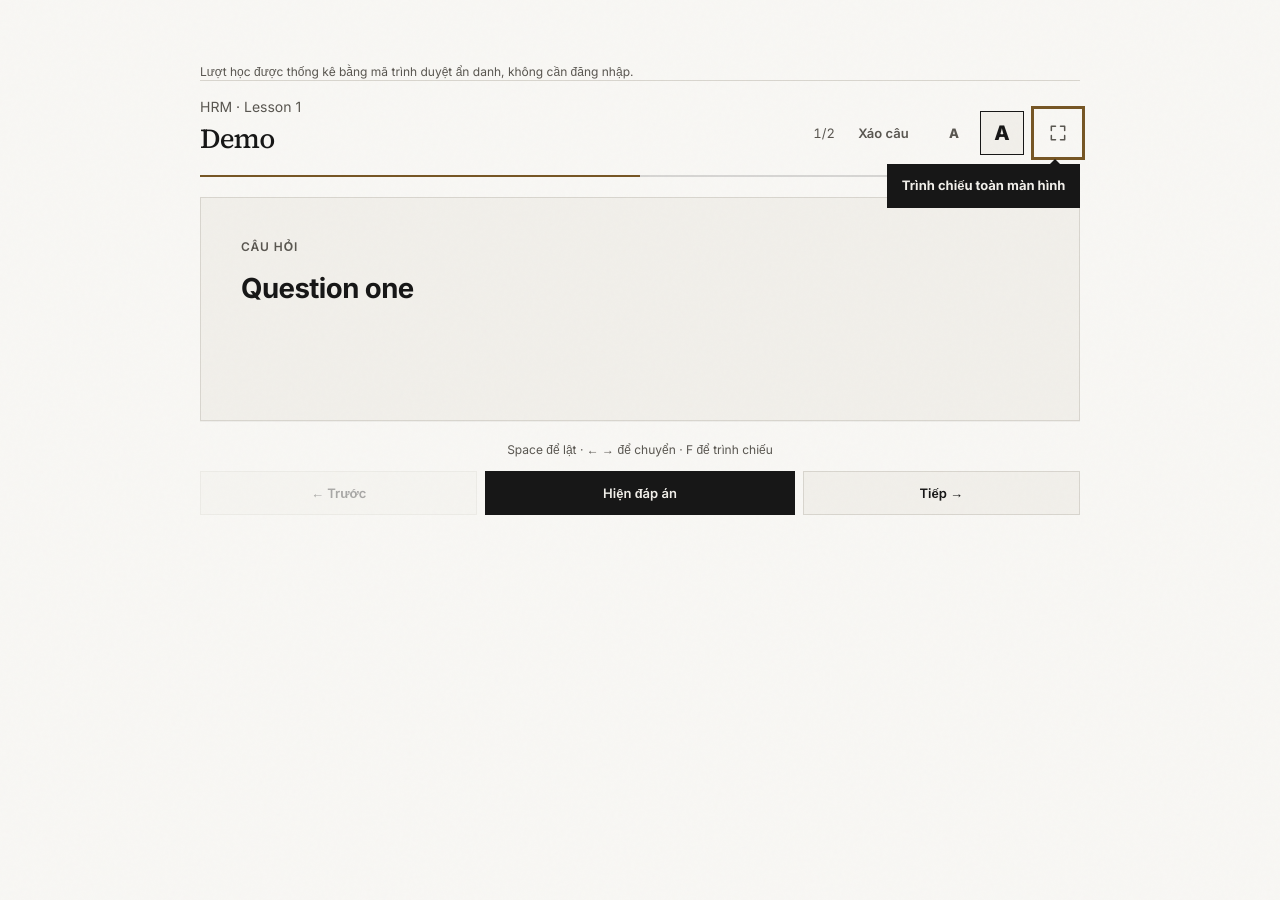
Test case: ActiveRecallPlayer › uses a fallback presentation when fullscreen is denied and exits with Escape
Click the button named "Trình chiếu": (1058, 134) [1036,112,1080,156]
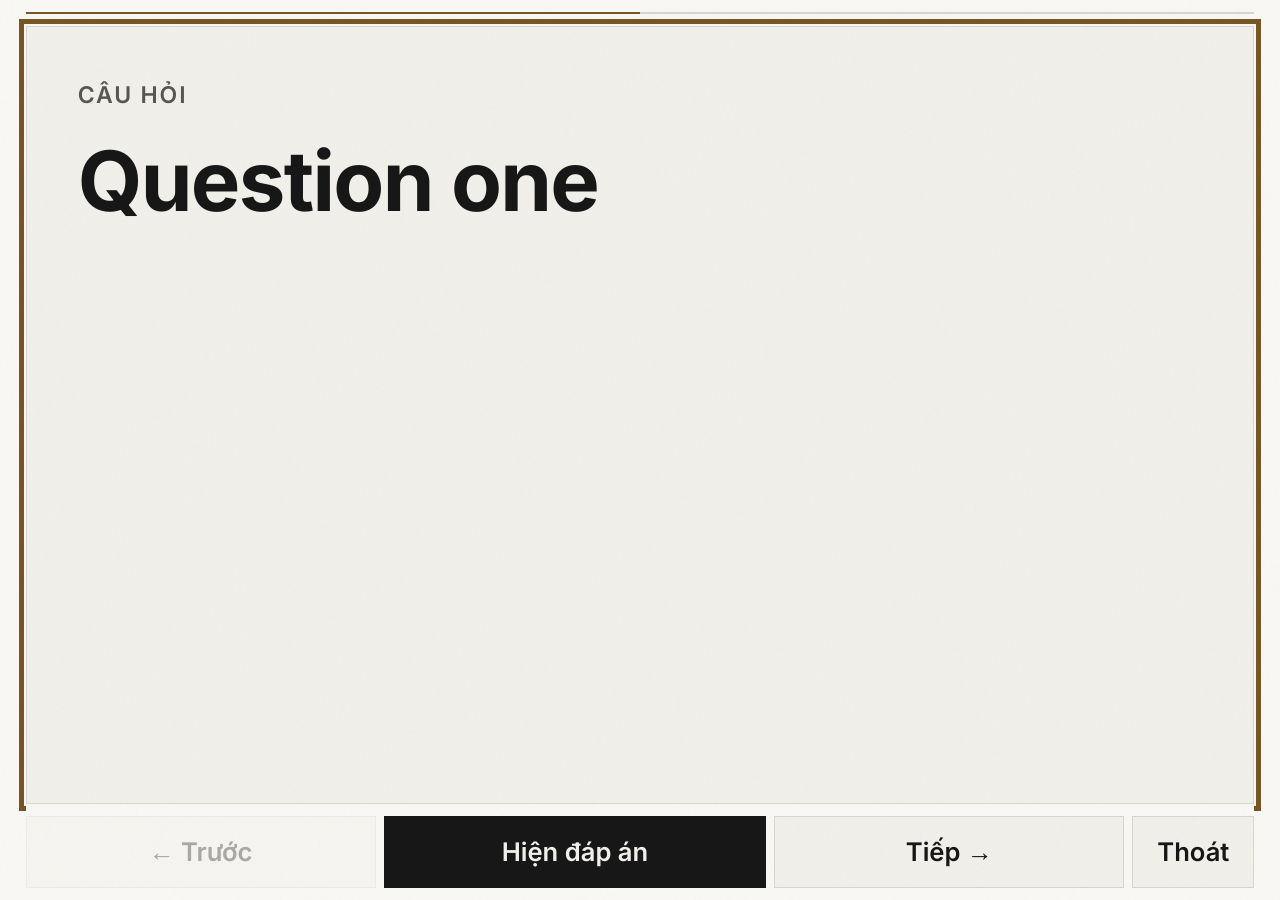
expect the button "Thoát" is shown: met, box [1132,816,1254,888]
Press Escape
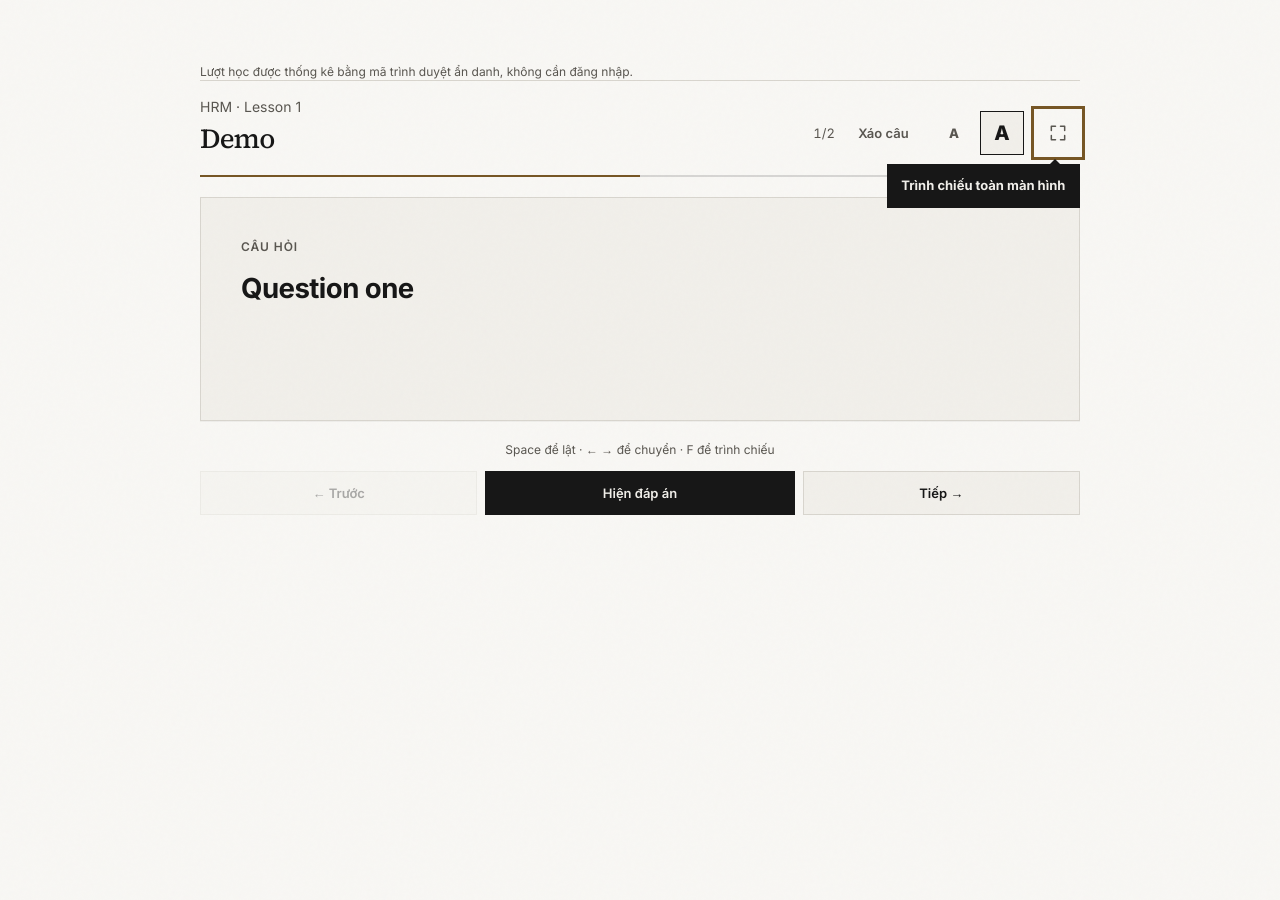
expect the button "Thoát" is gone: met
